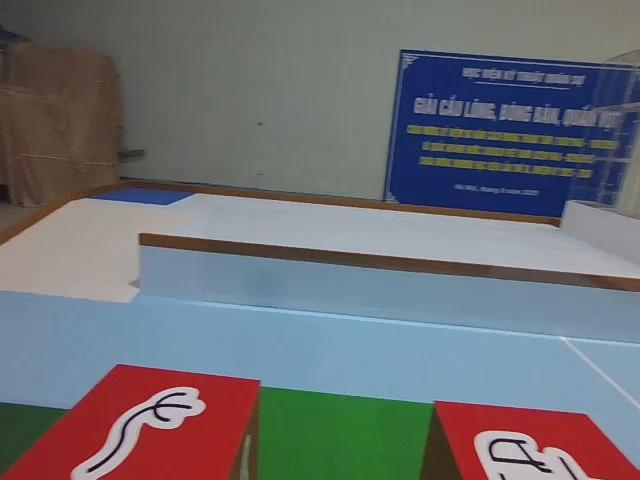R2 Real: (3, 358, 264, 480), (417, 397, 640, 480)
